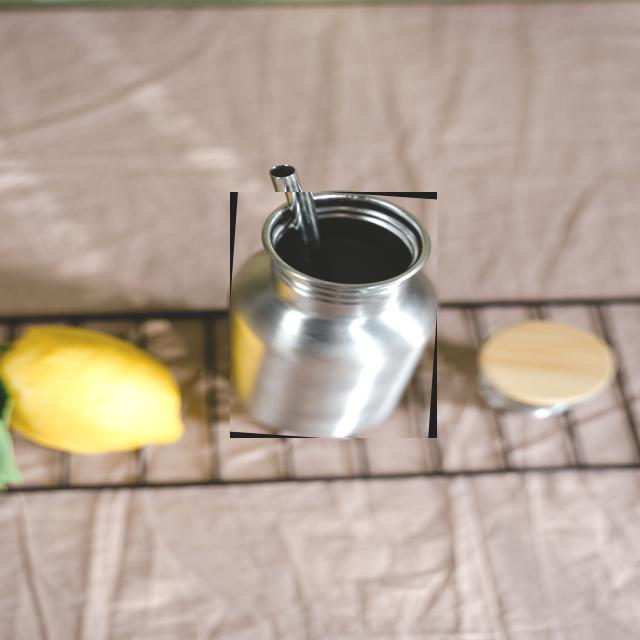Bottle: (230, 192, 435, 438)
